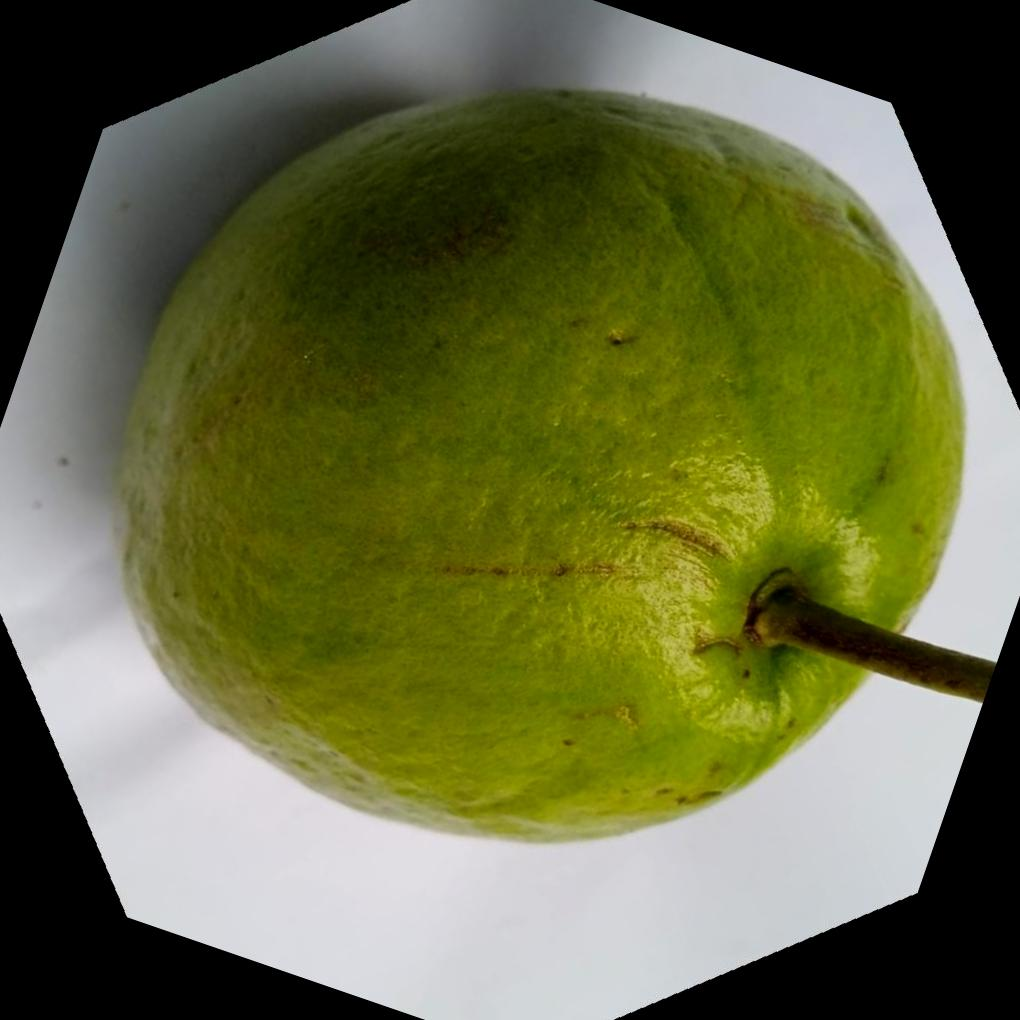FreshGuava: (111, 81, 974, 845)
